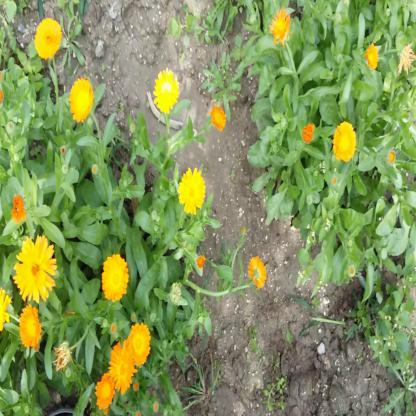marigold: (14, 236, 54, 303), (108, 338, 132, 394), (101, 256, 127, 304), (125, 321, 150, 369), (151, 69, 178, 113), (178, 168, 204, 212), (36, 18, 61, 60), (92, 368, 117, 410), (268, 7, 293, 48), (68, 78, 91, 122), (334, 118, 357, 160), (19, 304, 40, 348), (247, 257, 268, 292), (209, 100, 227, 134), (362, 41, 380, 71)
